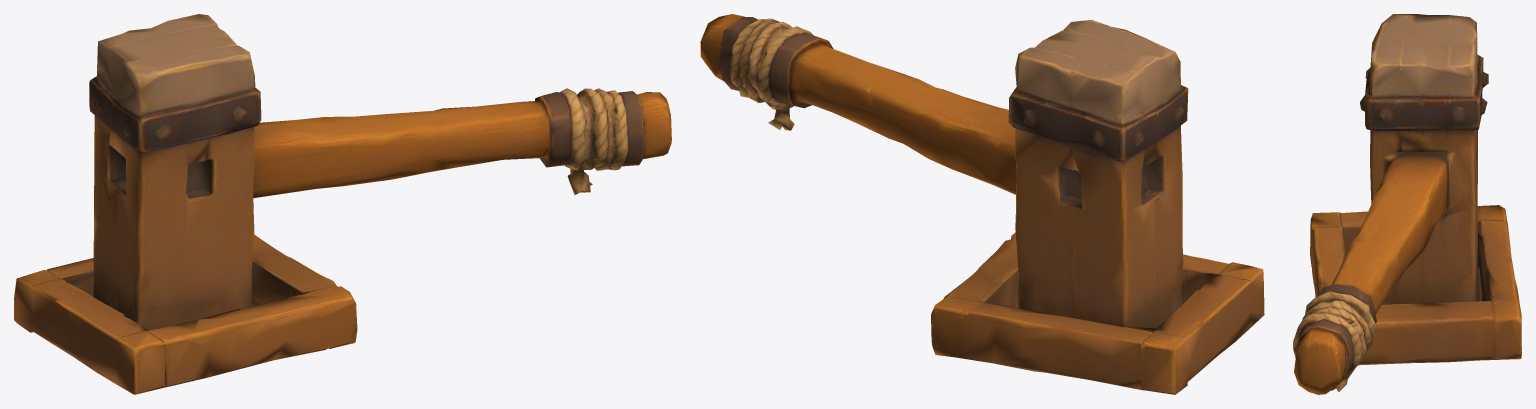
The model's file is model-prop-tiller-01.glb.
3 views of the same model, side by side, from view 1: azimuth 30°, elevation 25°; view 2: azimuth 150°, elevation 25°; view 3: azimuth 270°, elevation 25° (orthographic). The views are drawn at different scales.
Visible parts, largest first — view 1: tripo_node_a883578f-7377-4a31-bcc9-2df39a571cad; view 2: tripo_node_a883578f-7377-4a31-bcc9-2df39a571cad; view 3: tripo_node_a883578f-7377-4a31-bcc9-2df39a571cad.
Boxes of the visible parts, left/top/right/bottom form: tripo_node_a883578f-7377-4a31-bcc9-2df39a571cad: left=14, top=14, right=671, bottom=394; tripo_node_a883578f-7377-4a31-bcc9-2df39a571cad: left=700, top=14, right=1264, bottom=394; tripo_node_a883578f-7377-4a31-bcc9-2df39a571cad: left=1293, top=14, right=1521, bottom=394.
Size of the model in its own units: 1.3 by 0.65 by 0.4965.
1 material, 1 textured.
